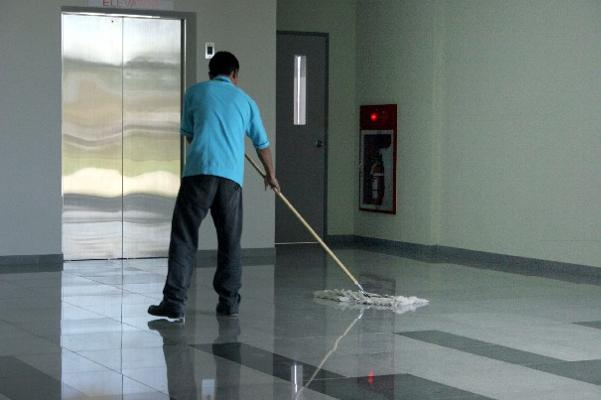person: (147, 48, 279, 323)
